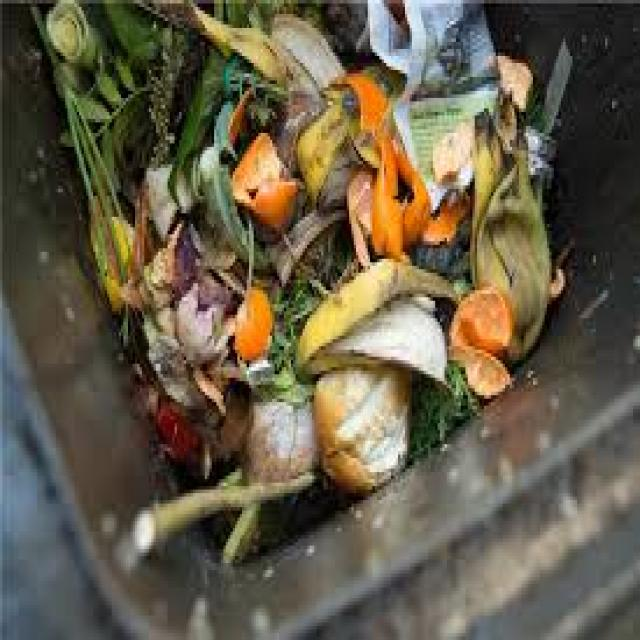organic waste: (47, 59, 135, 322), (468, 94, 549, 364), (130, 440, 310, 560), (170, 0, 247, 217), (312, 356, 414, 504), (137, 283, 235, 409), (293, 73, 382, 210), (235, 360, 317, 493), (140, 206, 235, 312), (93, 0, 214, 77), (442, 280, 517, 398), (182, 0, 286, 77), (149, 378, 237, 462), (140, 7, 188, 157), (265, 203, 354, 283), (410, 360, 477, 458), (228, 140, 300, 231), (20, 0, 102, 73), (265, 11, 340, 88), (366, 129, 402, 259), (394, 126, 431, 252), (274, 259, 312, 371), (112, 301, 151, 395), (140, 154, 179, 241), (335, 66, 384, 133), (233, 286, 272, 364), (428, 112, 470, 171), (226, 88, 272, 136), (498, 49, 535, 108), (419, 200, 465, 242), (545, 255, 570, 301)
